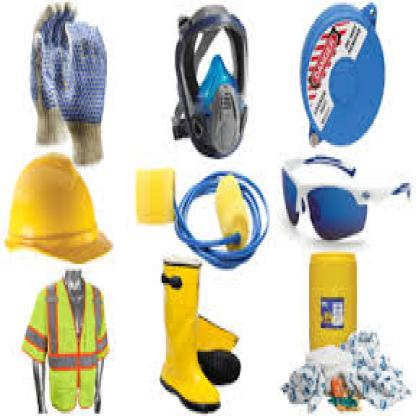with_gloves: (53, 22, 108, 166), (29, 3, 79, 148)
